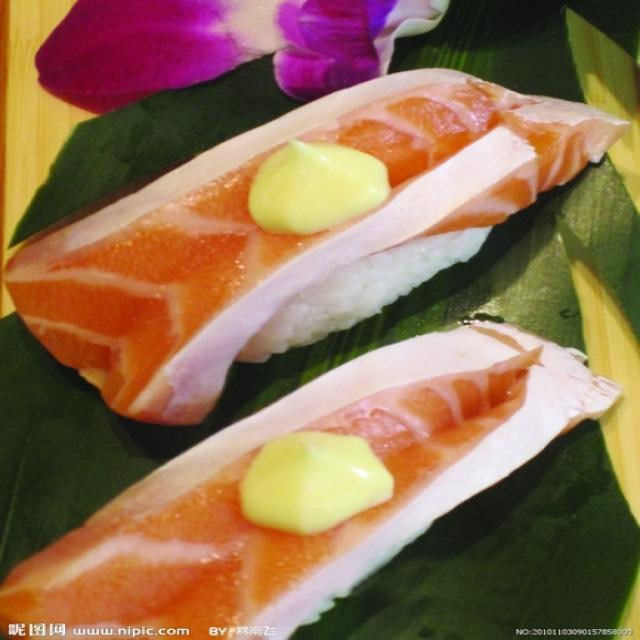熟制海鲜: (9, 48, 618, 623)
